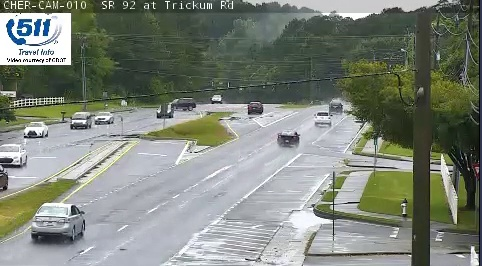car: (32, 203, 85, 234), (276, 130, 300, 147), (314, 111, 330, 125)
